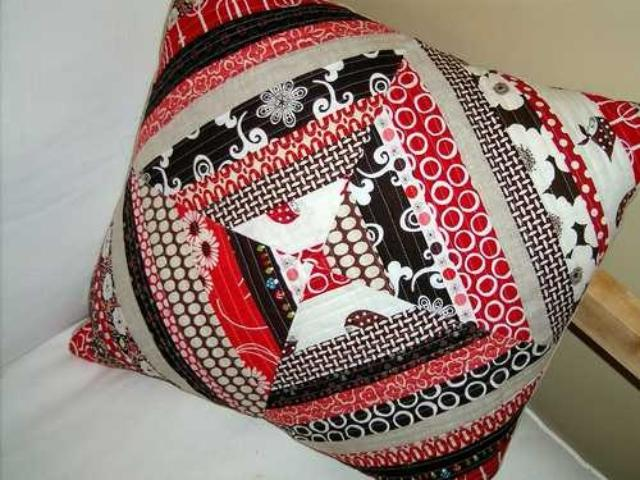pillow: (67, 0, 639, 478)
